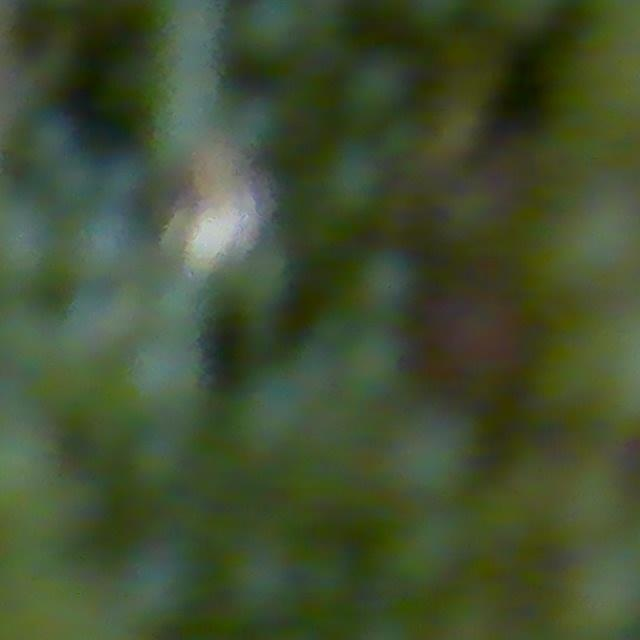SeaGrape: (408, 270, 544, 405), (384, 403, 482, 502), (555, 539, 640, 640), (113, 539, 204, 630), (116, 335, 205, 426), (222, 538, 307, 626), (64, 205, 149, 287), (317, 141, 389, 218), (0, 198, 60, 290), (341, 48, 414, 122), (352, 247, 422, 319), (237, 0, 311, 58)
